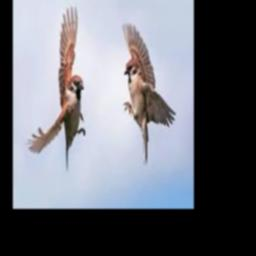Sparrow: (26, 6, 86, 170), (122, 23, 177, 167)
